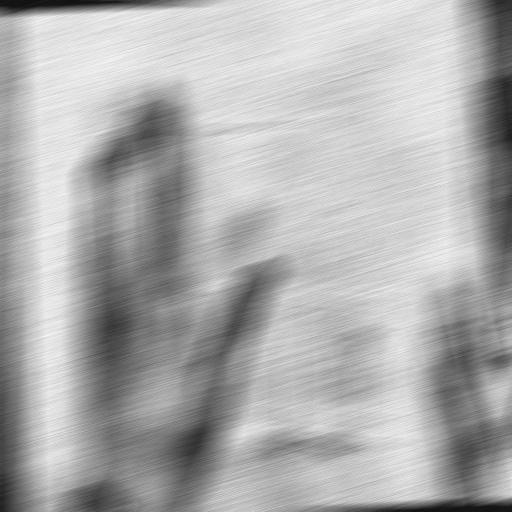house: (45, 28, 434, 474)
